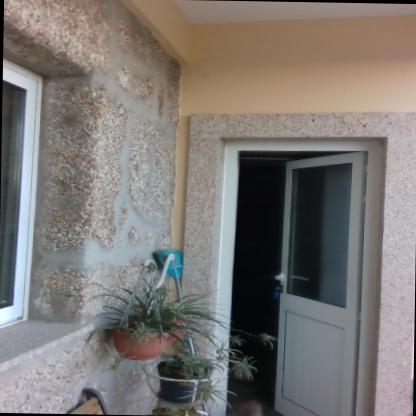semi: (194, 127, 396, 415)
